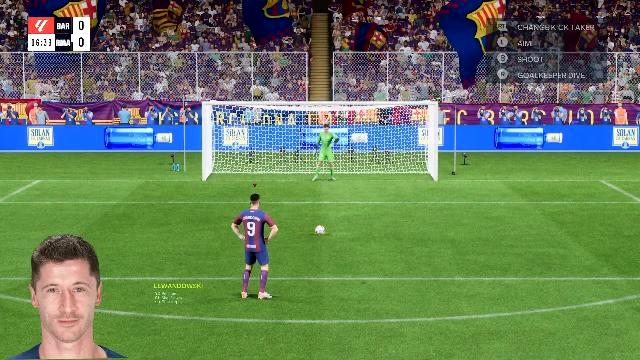bottom-left: (205, 149, 285, 181)
bottom-right: (361, 148, 433, 180)
center-down: (286, 148, 362, 180)
center-up: (288, 106, 358, 148)
circle: (312, 232, 330, 234)
football: (314, 227, 326, 235)
goalkeeper: (307, 126, 348, 182)
player: (228, 196, 280, 300)
top-left: (208, 104, 286, 146)
top-right: (358, 104, 436, 146)
